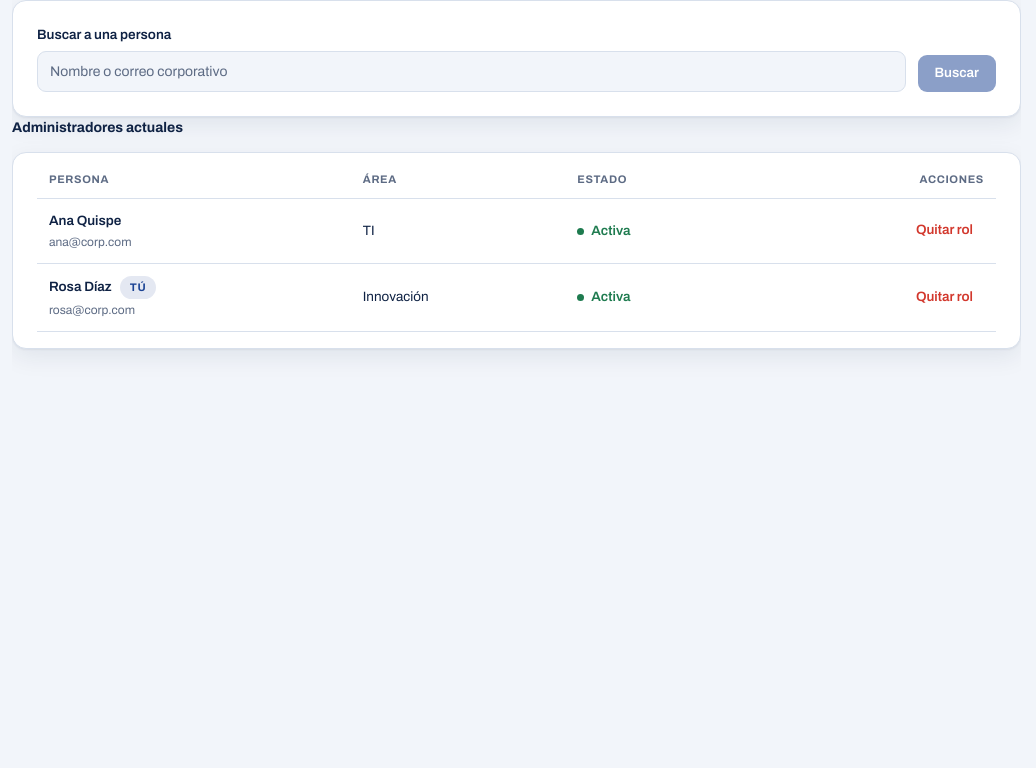
Test: <AdministradoresAdmin /> — la búsqueda › distingue «nadie coincide» de «todavía no buscaste»
Step 1. Type "beto" into the field labelled "Buscar a una persona" → {"x": 471, "y": 72}, box [37,51,906,92]
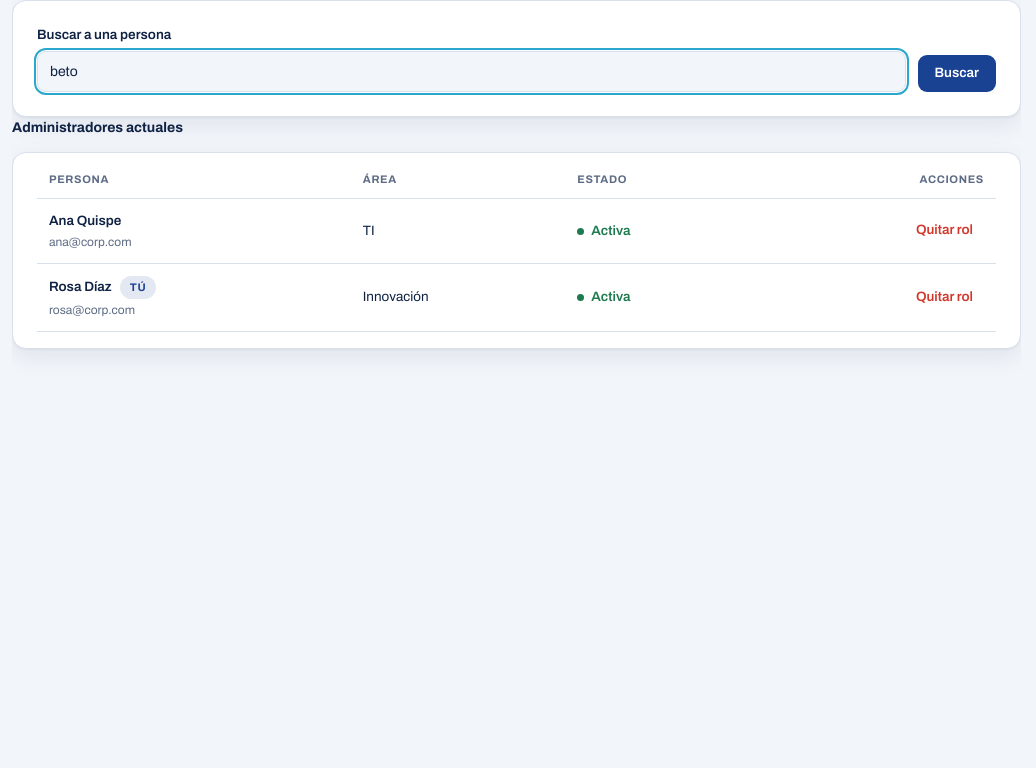
Step 2. Click the button "Buscar" → {"x": 957, "y": 74}, box [918,55,996,92]
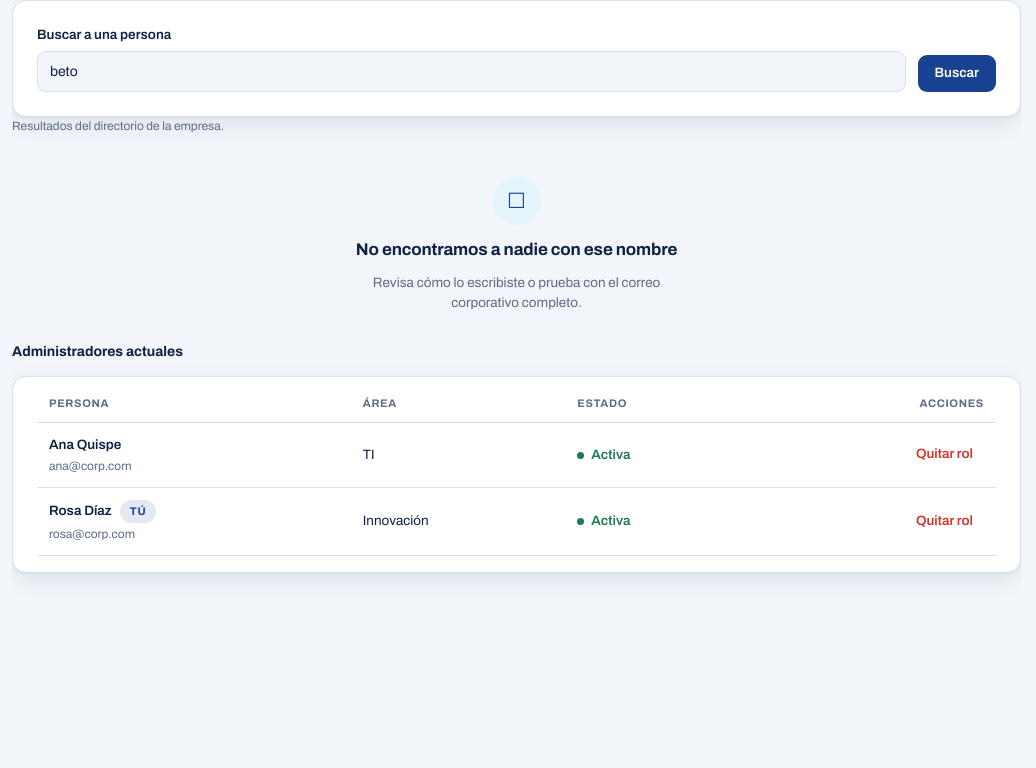
Expected: the heading "No encontramos a nadie con ese nombre" is shown, [356,237,677,263]
